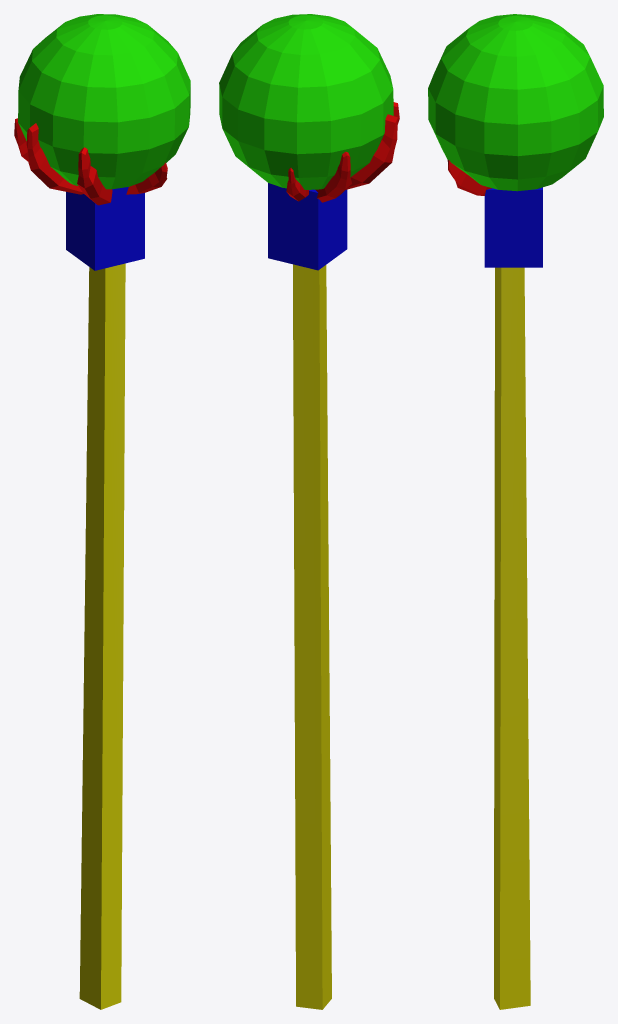
Rendered from bastonaco.fbx.
3 renders of one model, left to right at view 1: azimuth 30°, elevation 25°; view 2: azimuth 150°, elevation 25°; view 3: azimuth 270°, elevation 25°, orthographic.
Parts seen in each view (by area): view 1: Bastón; view 2: Bastón; view 3: Bastón.
Part boxes in pixels (box(x1,y1,x2,y2)): Bastón: box(14, 14, 190, 1009); Bastón: box(219, 14, 399, 1009); Bastón: box(428, 14, 603, 1009).
Size of the model in its own units: 0.4329 by 2.54 by 0.4111.
